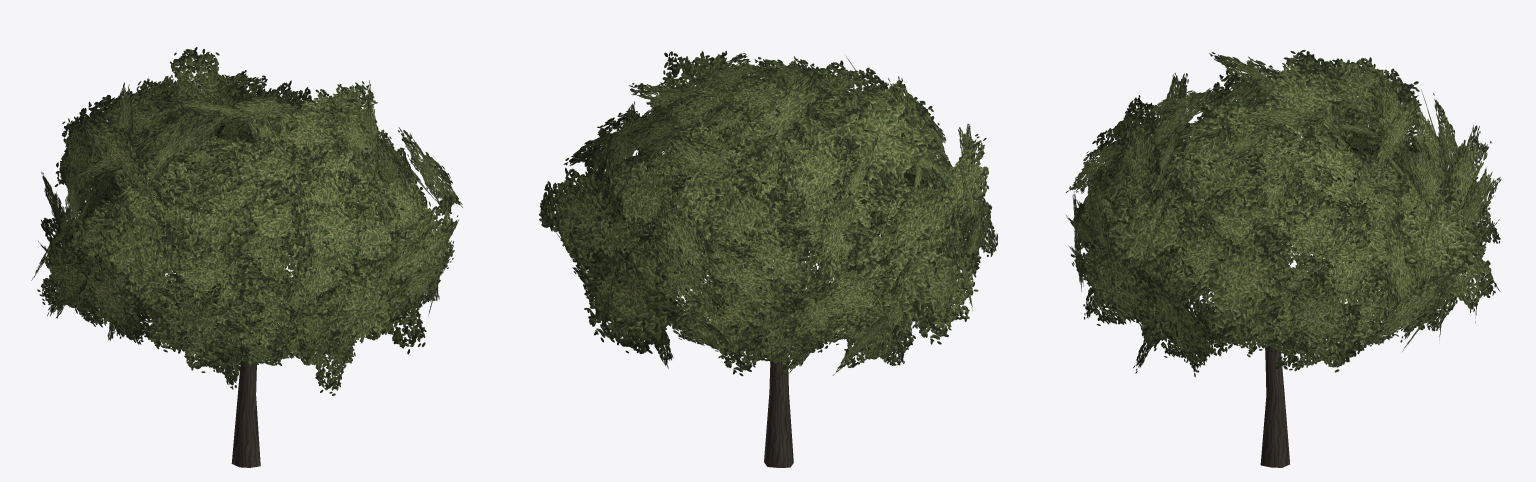
The model's file is oakt.glb.
3 renders of one model, left to right at view 1: azimuth 30°, elevation 25°; view 2: azimuth 150°, elevation 25°; view 3: azimuth 270°, elevation 25°, orthographic. The views are drawn at different scales.
Parts seen in each view (by area): view 1: oakt_lod0_1, oakt_lod0_0; view 2: oakt_lod0_1, oakt_lod0_0; view 3: oakt_lod0_1, oakt_lod0_0.
Boxes of the visible parts, x1,y1,x2,y2 form: oakt_lod0_1: (31, 47, 462, 395); oakt_lod0_0: (142, 251, 368, 467); oakt_lod0_1: (539, 51, 997, 383); oakt_lod0_0: (728, 201, 961, 467); oakt_lod0_1: (1065, 49, 1501, 377); oakt_lod0_0: (1096, 226, 1354, 467).
Size of what is drawn, in the model's own units: 13.02 by 11.16 by 12.13.
Materials: 2 (2 with a texture image).
